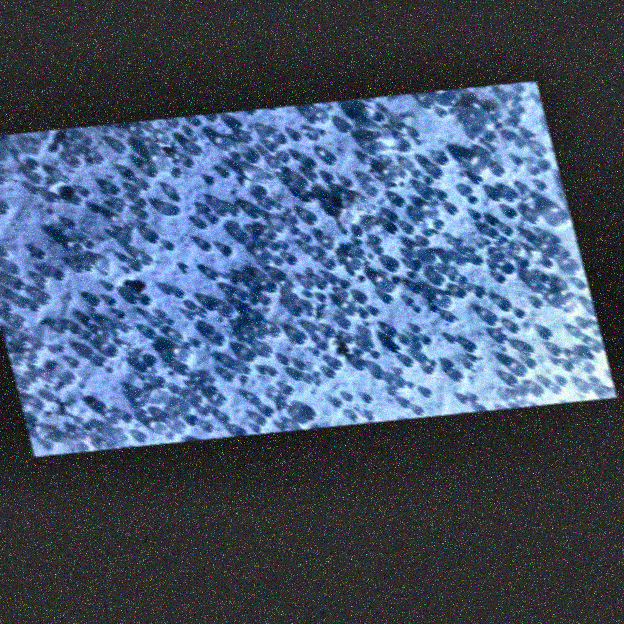GrassBeadSeg: (131, 131, 588, 417), (82, 136, 535, 421), (32, 80, 536, 324), (34, 163, 531, 410), (33, 167, 542, 403), (116, 109, 442, 443), (144, 112, 506, 412), (107, 185, 576, 374), (149, 146, 506, 393), (215, 112, 545, 373), (92, 165, 526, 360), (67, 133, 395, 391), (137, 206, 559, 405), (153, 154, 450, 435), (1, 156, 448, 335), (131, 206, 536, 398), (76, 261, 484, 451), (136, 139, 396, 437), (80, 188, 424, 410), (18, 196, 407, 390), (126, 97, 479, 304), (71, 219, 446, 413), (303, 80, 533, 383), (153, 110, 472, 326), (305, 132, 562, 394), (123, 170, 382, 424), (211, 176, 473, 415), (42, 340, 597, 449), (286, 175, 544, 397), (211, 174, 520, 346), (70, 245, 542, 357), (177, 245, 480, 414), (267, 191, 519, 385), (129, 289, 485, 424), (200, 170, 396, 415), (141, 232, 461, 381), (373, 106, 551, 371), (37, 249, 393, 381), (150, 142, 317, 421), (185, 128, 422, 320), (137, 196, 312, 442), (206, 211, 427, 394), (370, 96, 547, 315), (20, 277, 396, 380), (226, 227, 507, 363), (122, 151, 261, 422), (171, 291, 449, 426), (220, 249, 538, 367), (259, 188, 434, 402), (198, 262, 499, 386), (170, 239, 362, 433), (364, 192, 575, 365), (353, 144, 518, 356), (241, 132, 463, 289), (136, 275, 399, 407), (352, 212, 545, 391), (408, 207, 591, 391), (144, 241, 344, 407), (140, 259, 337, 424), (170, 220, 416, 343), (0, 176, 148, 380), (163, 165, 506, 250), (158, 233, 498, 318), (87, 136, 520, 202), (207, 270, 431, 397), (159, 140, 528, 216), (316, 196, 474, 369), (259, 251, 425, 415), (124, 169, 366, 281), (302, 106, 477, 255), (216, 138, 369, 306), (181, 169, 357, 314), (208, 216, 422, 333), (342, 280, 595, 376), (146, 167, 273, 357), (142, 161, 363, 270), (82, 188, 502, 245), (144, 242, 290, 405), (260, 324, 512, 416), (63, 262, 260, 375), (139, 254, 269, 425), (166, 387, 593, 438), (225, 246, 394, 368), (254, 177, 503, 259), (202, 159, 317, 333), (450, 256, 592, 395), (206, 186, 471, 260), (219, 304, 434, 395), (325, 153, 415, 366), (131, 173, 334, 267), (92, 198, 205, 366), (361, 299, 536, 403), (373, 107, 527, 225), (156, 109, 449, 171), (203, 362, 455, 433), (84, 237, 265, 334), (152, 205, 228, 434), (130, 266, 513, 311), (140, 180, 209, 409), (243, 257, 402, 356), (436, 155, 547, 293), (247, 210, 445, 285), (258, 177, 416, 270), (304, 91, 457, 180), (70, 195, 273, 262), (130, 150, 271, 245), (303, 213, 373, 399), (317, 191, 385, 379), (143, 354, 350, 413), (360, 256, 483, 352), (449, 276, 562, 366), (166, 351, 289, 432), (200, 206, 264, 361), (67, 132, 182, 216), (323, 155, 367, 370), (366, 186, 441, 306), (155, 377, 359, 421), (174, 276, 551, 299), (162, 206, 255, 295), (388, 227, 475, 321), (105, 354, 428, 379), (208, 325, 282, 432), (133, 127, 175, 287), (424, 222, 547, 273), (403, 238, 459, 344), (187, 206, 213, 422), (170, 167, 233, 253), (258, 199, 323, 281), (47, 193, 128, 257), (237, 273, 286, 375), (127, 338, 202, 404), (137, 190, 256, 231), (305, 290, 406, 337), (341, 229, 468, 265), (500, 359, 602, 403), (335, 161, 426, 209), (466, 343, 567, 386), (252, 190, 383, 223), (275, 256, 320, 342), (232, 275, 294, 337), (267, 199, 315, 278), (208, 121, 274, 178), (487, 132, 547, 193), (489, 97, 548, 157), (109, 384, 199, 423), (474, 122, 541, 173), (362, 370, 465, 403), (209, 365, 288, 408), (69, 121, 161, 156), (195, 118, 242, 184), (295, 167, 442, 188), (354, 200, 439, 236), (283, 104, 333, 163), (205, 299, 378, 316), (240, 365, 403, 383), (360, 117, 422, 164), (314, 240, 421, 266), (134, 348, 178, 411), (57, 144, 127, 183), (78, 263, 126, 317), (25, 325, 80, 372), (551, 320, 604, 364), (313, 343, 353, 401), (14, 326, 67, 369), (409, 107, 478, 140), (413, 341, 507, 365), (198, 278, 254, 317), (66, 405, 119, 445), (2, 252, 65, 285), (302, 172, 319, 290), (85, 314, 130, 357), (395, 305, 422, 376), (0, 141, 16, 259), (507, 209, 559, 245), (484, 313, 553, 339), (426, 254, 452, 320), (30, 371, 86, 401), (322, 239, 366, 277), (3, 291, 51, 324), (32, 394, 65, 441), (75, 126, 128, 155), (261, 221, 312, 251), (264, 281, 349, 298), (14, 317, 45, 362), (303, 103, 351, 132), (423, 225, 471, 254), (310, 326, 337, 377), (226, 284, 349, 295), (464, 99, 506, 129), (160, 135, 199, 167), (29, 158, 62, 195), (248, 335, 265, 406), (554, 265, 580, 311), (344, 228, 369, 275), (471, 211, 499, 252), (388, 326, 406, 387), (362, 157, 414, 178), (172, 120, 203, 155), (263, 131, 301, 159), (341, 318, 397, 337), (333, 321, 354, 369), (218, 180, 258, 204), (74, 256, 130, 273), (505, 227, 561, 244), (413, 304, 438, 342), (281, 330, 308, 365), (266, 223, 285, 272), (15, 267, 38, 307), (83, 224, 147, 238), (347, 108, 398, 125), (282, 356, 321, 377), (344, 174, 405, 187), (542, 246, 578, 268), (257, 367, 336, 377), (399, 141, 430, 166), (53, 421, 96, 439), (255, 241, 272, 286), (236, 223, 278, 241), (53, 358, 81, 383), (97, 414, 116, 447), (521, 184, 537, 223), (413, 257, 451, 273), (121, 204, 147, 224), (254, 282, 294, 294), (72, 314, 91, 339), (489, 220, 507, 244), (132, 192, 141, 229), (362, 155, 391, 166), (423, 170, 435, 195), (246, 327, 268, 338), (177, 346, 191, 361), (365, 143, 381, 155), (318, 281, 327, 302), (573, 328, 584, 342), (412, 337, 423, 351), (239, 232, 257, 238), (433, 170, 444, 179), (241, 233, 250, 243), (300, 181, 310, 190), (230, 208, 239, 216), (248, 335, 256, 344), (119, 223, 125, 232), (137, 409, 143, 416), (257, 230, 262, 238), (120, 202, 125, 210), (126, 222, 132, 227), (256, 335, 266, 338), (118, 219, 123, 224), (302, 177, 308, 181), (418, 311, 421, 313)
